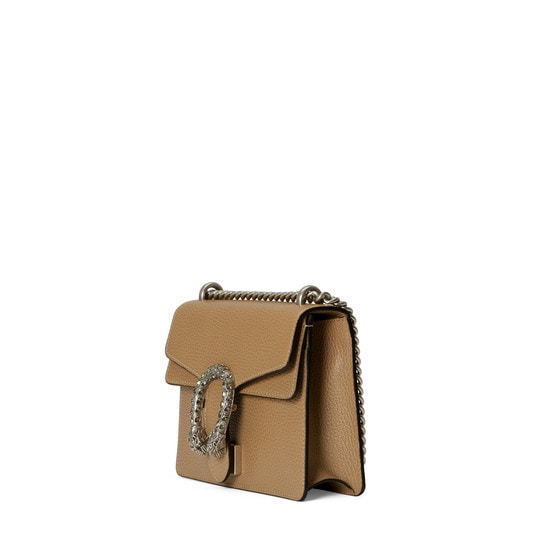Gucci: (164, 267, 373, 507), (181, 355, 248, 470)
